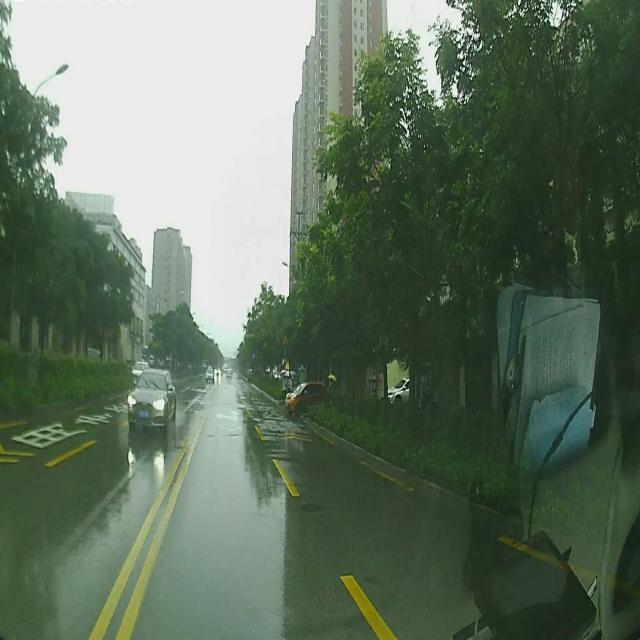car: (126, 370, 177, 428), (284, 381, 330, 414), (204, 367, 214, 382)
